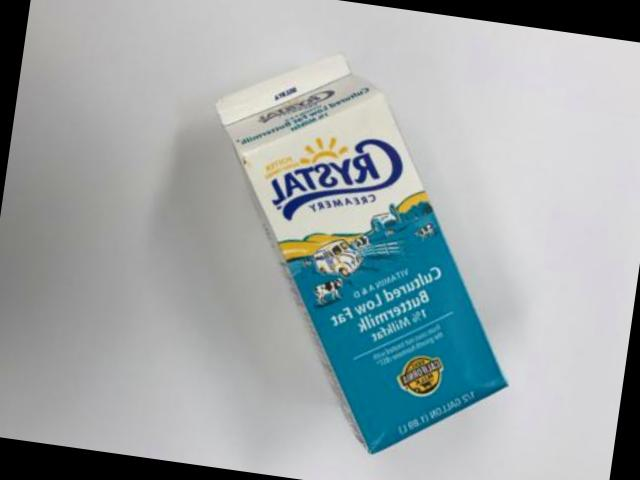cardboard paper: (219, 53, 509, 451)
